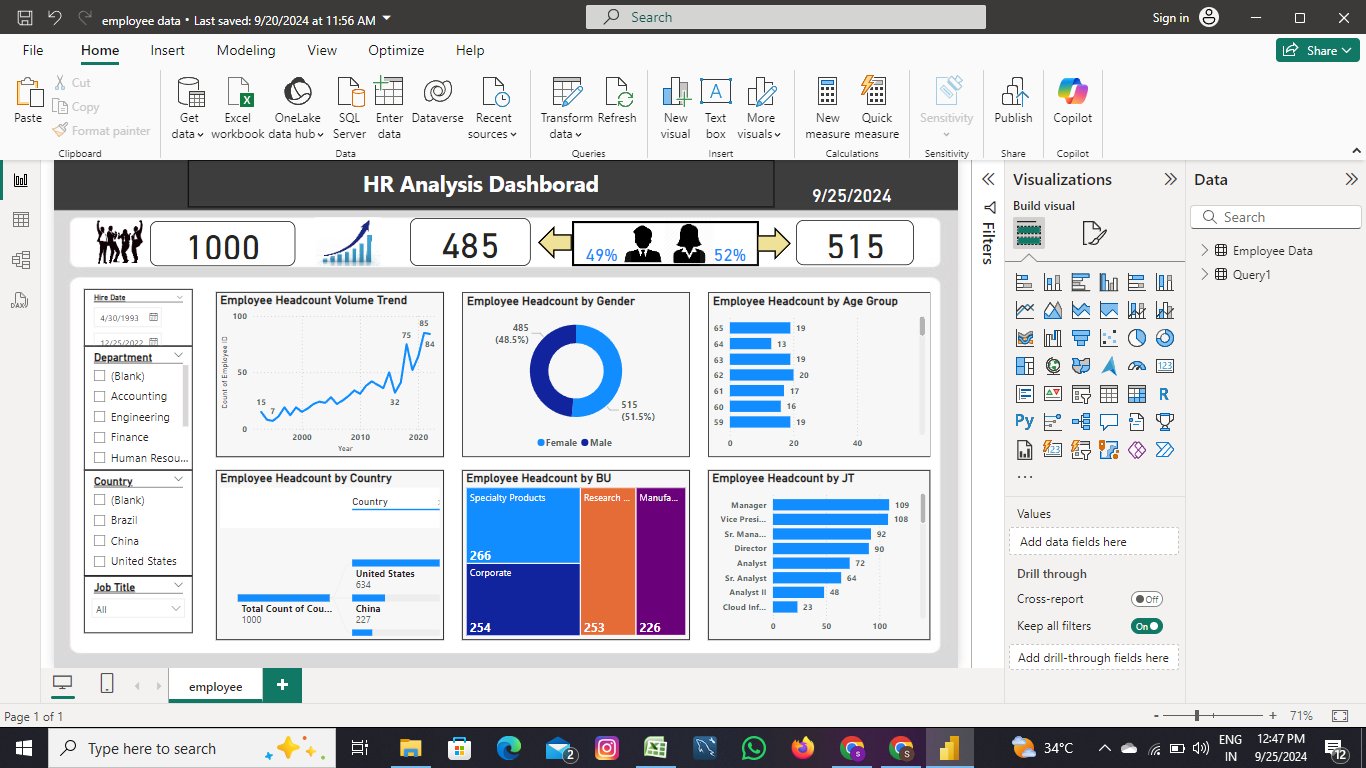

The dashboard page shown, as its layout file describes it:
{"tool":"powerbi","page":{"name":"employee","canvas":[1280,720],"ordinal":0},"visuals":[{"type":"card","fields":{"Values":["Employee Data.Total_Count"]},"box":[136.1,86.5,205.5,63.8],"z":0},{"type":"image","box":[42.5,78,103.5,75.1],"z":1000},{"type":"lineChart","title":"Employee Headcount Volume Trend","fields":{"Category":["Employee Data.Hire Date.Variation.Date Hierarchy.Year"],"Y":["CountNonNull(Employee Data.Employee ID)"]},"box":[229.6,187.1,323.1,233.9],"z":2000},{"type":"donutChart","title":"Employee Headcount by Gender","fields":{"Category":["Employee Data.Gender"],"Y":["CountNonNull(Employee Data.Employee ID)"]},"box":[578.3,187.1,323.1,233.9],"z":3000},{"type":"clusteredBarChart","title":"Employee Headcount by Age Group","fields":{"Y":["CountNonNull(Employee Data.Employee ID)"],"Category":["Employee Data.Age"]},"box":[926.9,187.1,314.6,233.9],"z":4000},{"type":"decompositionTreeVisual","title":"Employee Headcount by Country","fields":{"Analyze":["CountNonNull(Employee Data.Country)"],"ExplainBy":["Employee Data.Country"]},"box":[229.6,439.4,323.1,240.9],"z":5000},{"type":"treemap","title":"Employee Headcount by BU","fields":{"Group":["Employee Data.Business Unit"],"Values":["CountNonNull(Employee Data.Employee ID)"]},"box":[578.3,439.4,323.1,240.9],"z":6000},{"type":"clusteredBarChart","title":"Employee Headcount by JT","fields":{"Category":["Employee Data.Job Title"],"Y":["CountNonNull(Employee Data.Employee ID)"]},"box":[926.9,439.4,314.6,240.9],"z":7000},{"type":"image","box":[742.7,87.9,184.3,62.4],"z":8000},{"type":"card","fields":{"Values":["Employee Data.Total_Male_Count"]},"box":[504.6,82.2,171.5,68],"z":9000},{"type":"card","fields":{"Values":["Employee Data.Total_Female_Count"]},"box":[1051.7,85,167.2,63.8],"z":10000},{"type":"image","box":[858.9,78,83.6,80.8],"z":11000},{"type":"card","fields":{"Values":["Employee Data.Male%"]},"box":[734.2,114.8,83.6,36.9],"z":11001},{"type":"shape","box":[734.2,86.5,265,63.8],"z":11002},{"type":"card","fields":{"Values":["Employee Data.Female%"]},"box":[915.6,114.8,83.6,36.9],"z":11003},{"type":"shape","box":[996.4,95,48.2,46.8],"z":11004},{"type":"shape","box":[686,93.5,48.2,46.8],"z":11005},{"type":"shape","box":[221.1,0,830.6,66.6],"z":11006},{"type":"image","box":[365.7,65.2,102,100.6],"z":11007},{"type":"slicer","fields":{"Values":["Employee Data.Department"]},"box":[42.5,184.3,154.5,175.7],"z":11008},{"type":"slicer","fields":{"Values":["Employee Data.Country"]},"box":[42.5,360,154.5,150.2],"z":11009},{"type":"slicer","fields":{"Values":["Employee Data.Job Title"]},"box":[42.5,510.2,154.5,165.8],"z":11010}]}

Visuals, with their boxes on the page's 1280x720 design canvas (x1, y1, x2, y2). These are canvas units, not pixel positions in the 1366x768 screenshot, which may show the page scaled, cropped or inside an application window:
card - Employee Data.Total_Count: <bbox>136, 86, 342, 150</bbox>
image: <bbox>42, 78, 146, 153</bbox>
"Employee Headcount Volume Trend" lineChart: <bbox>230, 187, 553, 421</bbox>
"Employee Headcount by Gender" donutChart: <bbox>578, 187, 901, 421</bbox>
"Employee Headcount by Age Group" clusteredBarChart: <bbox>927, 187, 1242, 421</bbox>
"Employee Headcount by Country" decompositionTreeVisual: <bbox>230, 439, 553, 680</bbox>
"Employee Headcount by BU" treemap: <bbox>578, 439, 901, 680</bbox>
"Employee Headcount by JT" clusteredBarChart: <bbox>927, 439, 1242, 680</bbox>
image: <bbox>743, 88, 927, 150</bbox>
card - Employee Data.Total_Male_Count: <bbox>505, 82, 676, 150</bbox>
card - Employee Data.Total_Female_Count: <bbox>1052, 85, 1219, 149</bbox>
image: <bbox>859, 78, 942, 159</bbox>
card - Employee Data.Male%: <bbox>734, 115, 818, 152</bbox>
shape: <bbox>734, 86, 999, 150</bbox>
card - Employee Data.Female%: <bbox>916, 115, 999, 152</bbox>
shape: <bbox>996, 95, 1045, 142</bbox>
shape: <bbox>686, 94, 734, 140</bbox>
shape: <bbox>221, 0, 1052, 67</bbox>
image: <bbox>366, 65, 468, 166</bbox>
slicer - Employee Data.Department: <bbox>42, 184, 197, 360</bbox>
slicer - Employee Data.Country: <bbox>42, 360, 197, 510</bbox>
slicer - Employee Data.Job Title: <bbox>42, 510, 197, 676</bbox>
